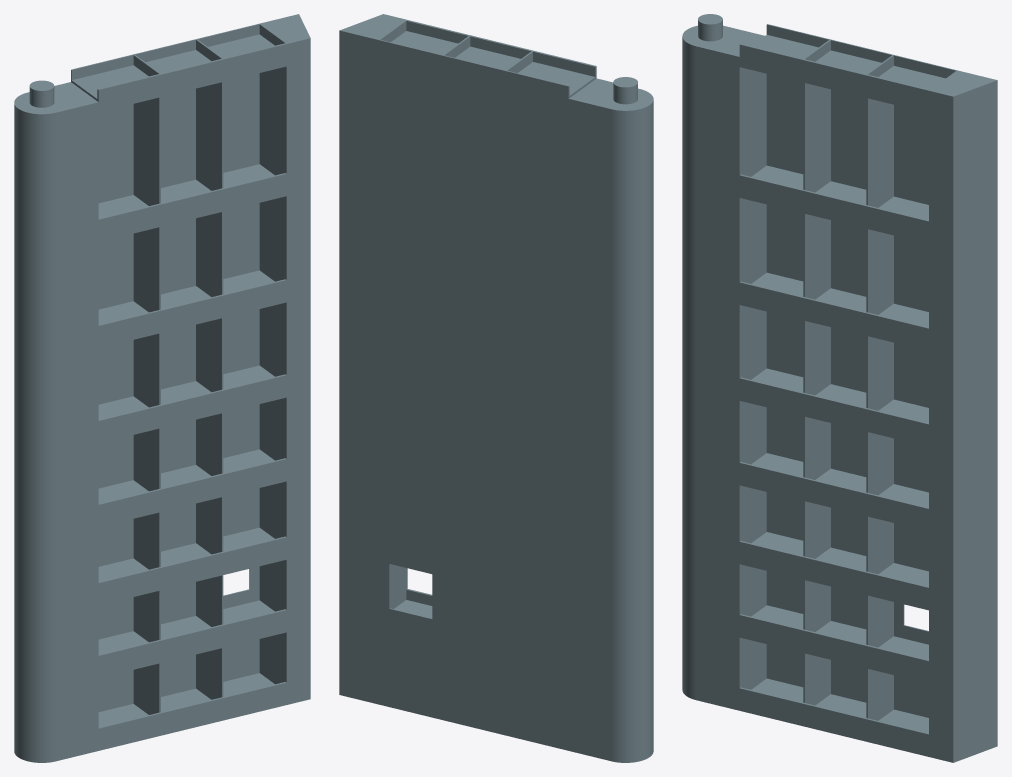
File: step_05.glb
The picture shows the model from 3 angles, left to right: view 1: azimuth 30°, elevation 25°; view 2: azimuth 150°, elevation 25°; view 3: azimuth 330°, elevation 25°; orthographic projection.
Visible parts, largest first — view 1: part__heel post, part__skin plate, part__mitre post, part__stiffener 2, part__stiffener 1, part__girder 8, part__girder 1, part__girder 3, part__girder 5, part__girder 6, part__girder 7, part__girder 2 (+1 smaller); view 2: part__skin plate, part__heel post, part__mitre post, part__girder 8, part__girder 2; view 3: part__heel post, part__mitre post, part__skin plate, part__stiffener 2, part__stiffener 1, part__girder 8, part__girder 5, part__girder 7, part__girder 2, part__girder 1, part__girder 3, part__girder 4 (+1 smaller).
Part boxes in pixels (x1,y1,x2,y2): part__heel post: (14,80,98,762); part__skin plate: (71,24,259,711); part__mitre post: (259,14,310,704); part__stiffener 2: (196,39,223,699); part__stiffener 1: (133,55,160,714); part__girder 8: (71,34,286,111); part__girder 1: (98,673,286,750); part__girder 3: (98,527,286,605); part__girder 5: (98,365,286,443); part__girder 6: (98,270,286,347); part__girder 7: (98,164,286,241); part__girder 2: (98,600,286,677); part__skin plate: (379,40,569,750); part__heel post: (568,77,653,762); part__mitre post: (339,14,407,704); part__girder 8: (391,20,596,97); part__girder 2: (394,589,432,618); part__heel post: (682,14,766,710); part__mitre post: (929,70,997,762); part__skin plate: (766,24,956,717); part__stiffener 2: (866,55,893,720); part__stiffener 1: (803,40,830,705); part__girder 8: (739,35,945,113); part__girder 5: (739,368,928,446); part__girder 7: (739,165,928,243); part__girder 2: (739,605,928,683); part__girder 1: (739,678,928,756); part__girder 3: (739,532,928,610); part__girder 4: (739,453,928,531).
Bounding box in the file's own units: 2760 × 5950 × 450.
